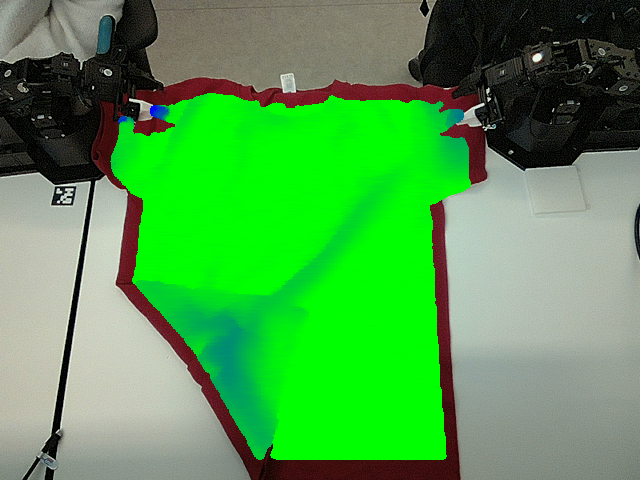V: (279, 295, 322, 344)
